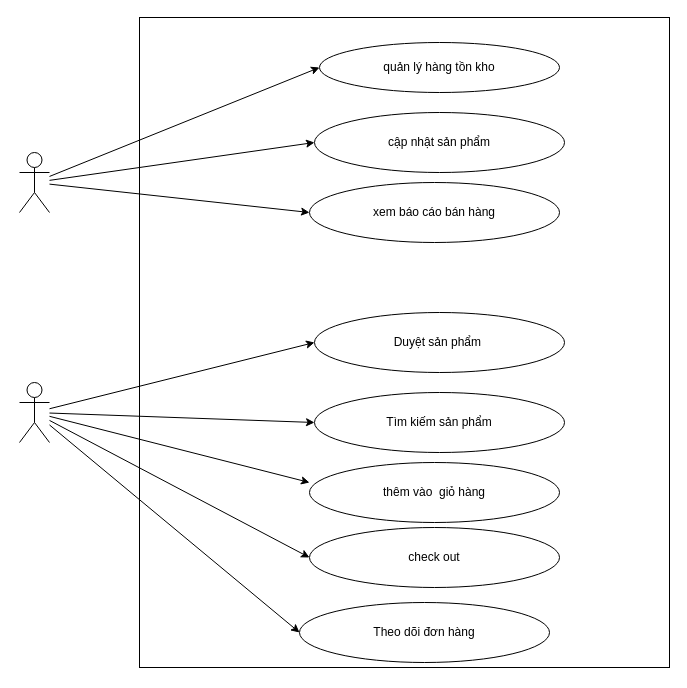
Image size: 687x688. Some labels were removed from this diagram. The shapes that lost their labels are listed below. From the top down, each one's centre as x and y in pixels, then its label:
point (34, 182): Admin
point (34, 412): User
